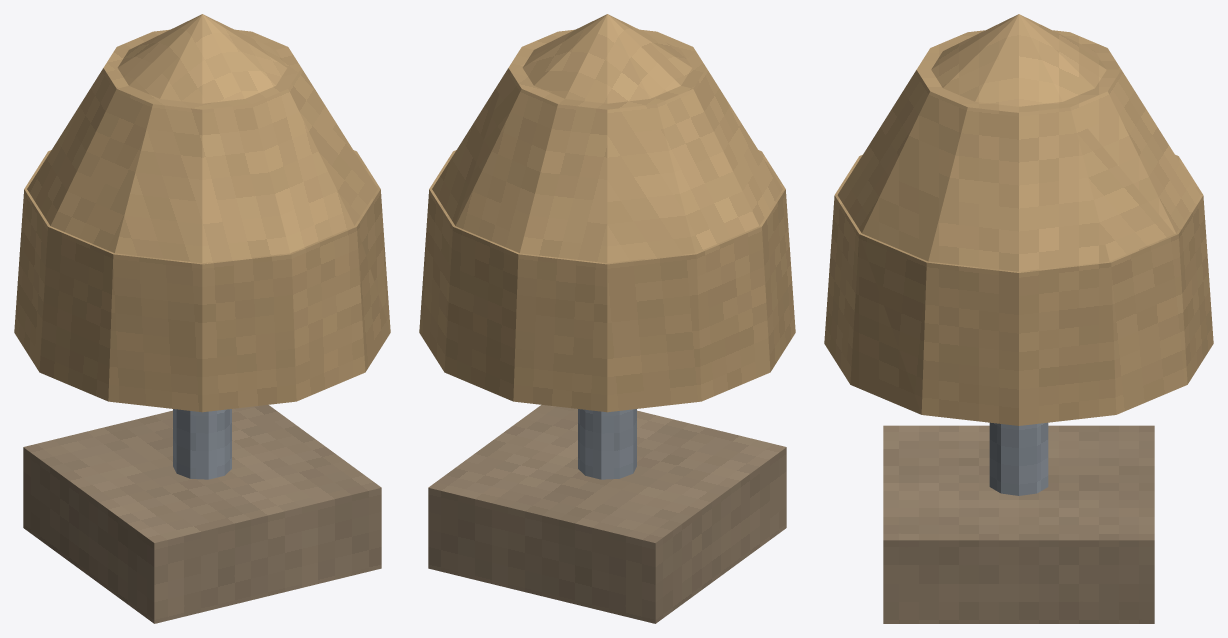
The model's file is level_blockout_school_library_globe.glb.
3 views of the same model, side by side, from view 1: azimuth 30°, elevation 25°; view 2: azimuth 150°, elevation 25°; view 3: azimuth 270°, elevation 25° (orthographic). The views are drawn at different scales.
Parts seen in each view (by area): view 1: level_blockout_school_library_globe; view 2: level_blockout_school_library_globe; view 3: level_blockout_school_library_globe.
Boxes of the visible parts, x1,y1,x2,y2 form: level_blockout_school_library_globe: (14,14,390,623); level_blockout_school_library_globe: (419,14,795,623); level_blockout_school_library_globe: (824,14,1213,623).
Size of the model in its own units: 0.76 by 1.19 by 0.76.
3 materials, 3 textured.
